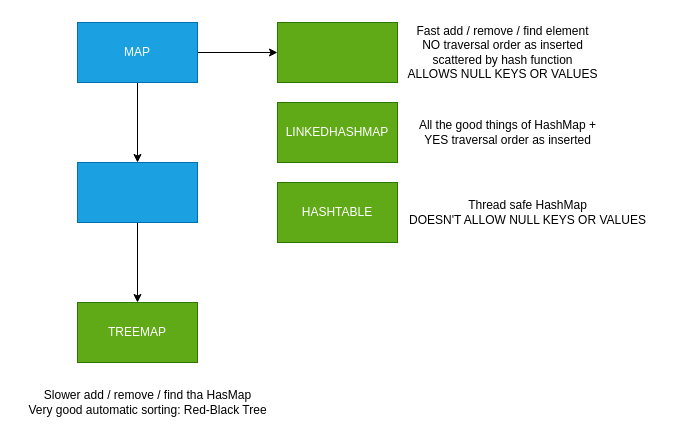
Image size: 674x439. Some labels were removed from this diagram. The centre of each missing label's shape, as x and y in pixels:
HASHMAP: (337,52)
SORTEDMAP: (137,192)
